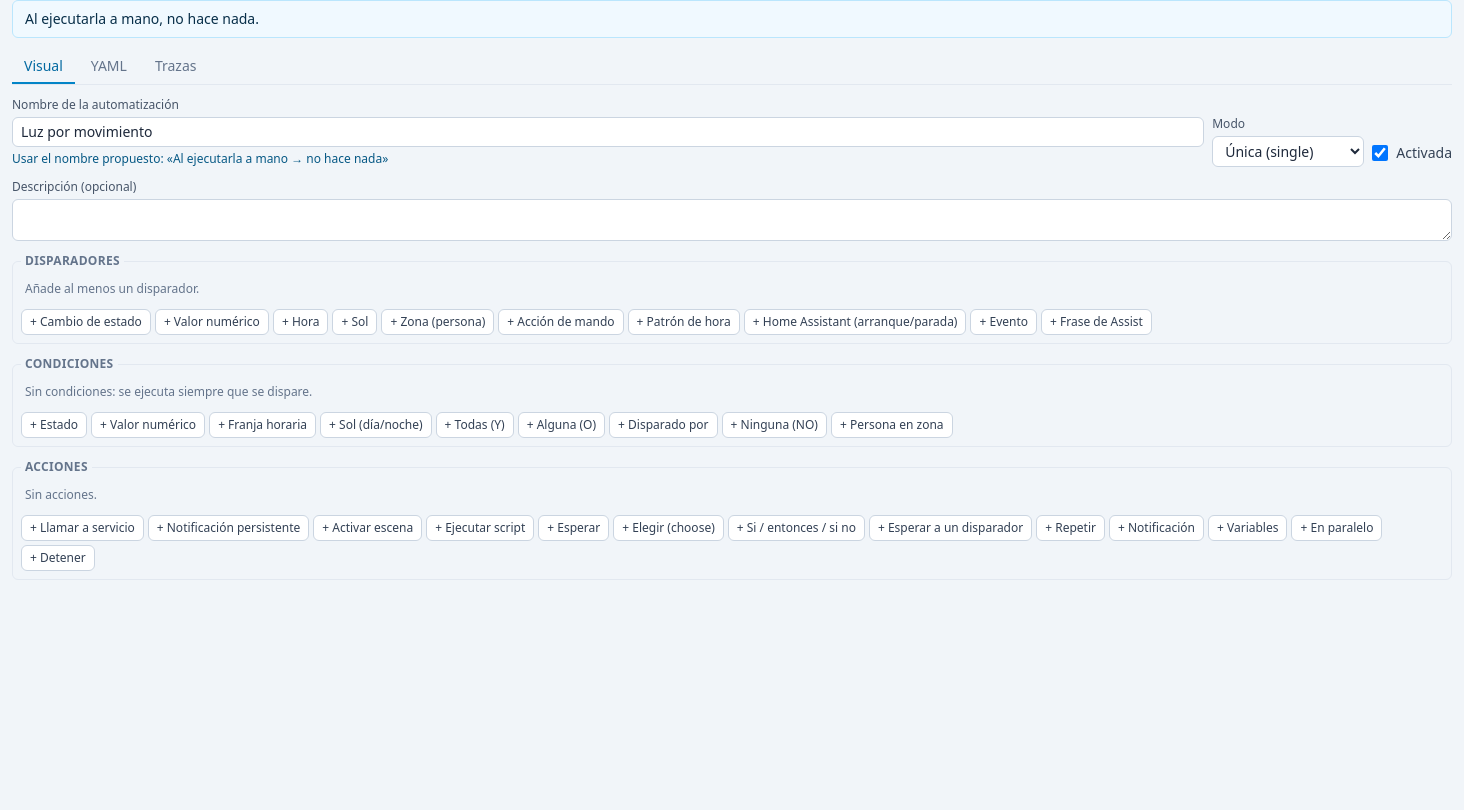
AutomationEditor › muestra los errores de parseo del YAML
This screenshot has width=1464, height=810.
Click the tab "YAML" at coordinates (109, 67), box [79, 50, 139, 84]
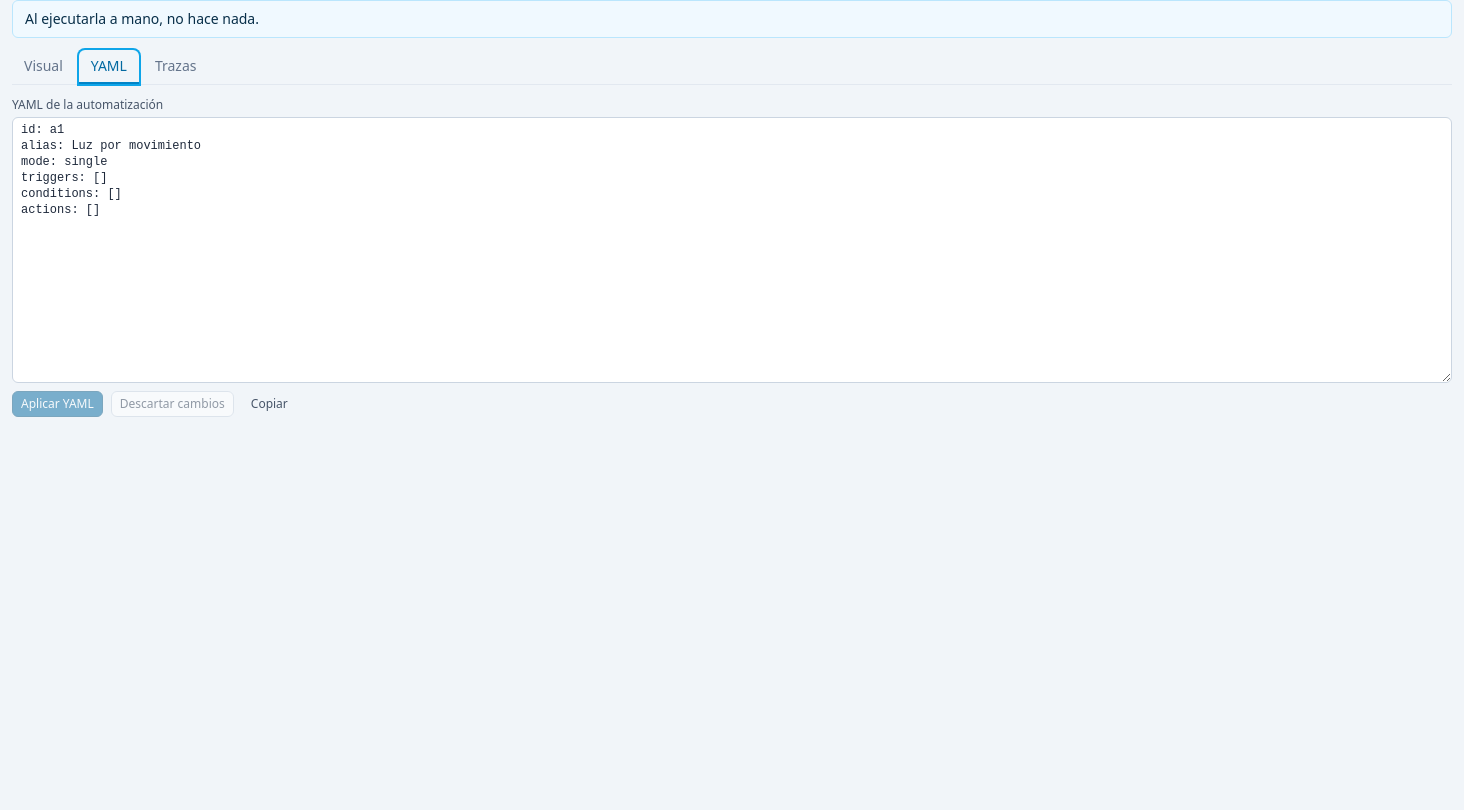
Replace the text in the text box labelled "YAML de la automatización" with "esto: [no es valido" at coordinates (732, 250), box [12, 117, 1452, 383]
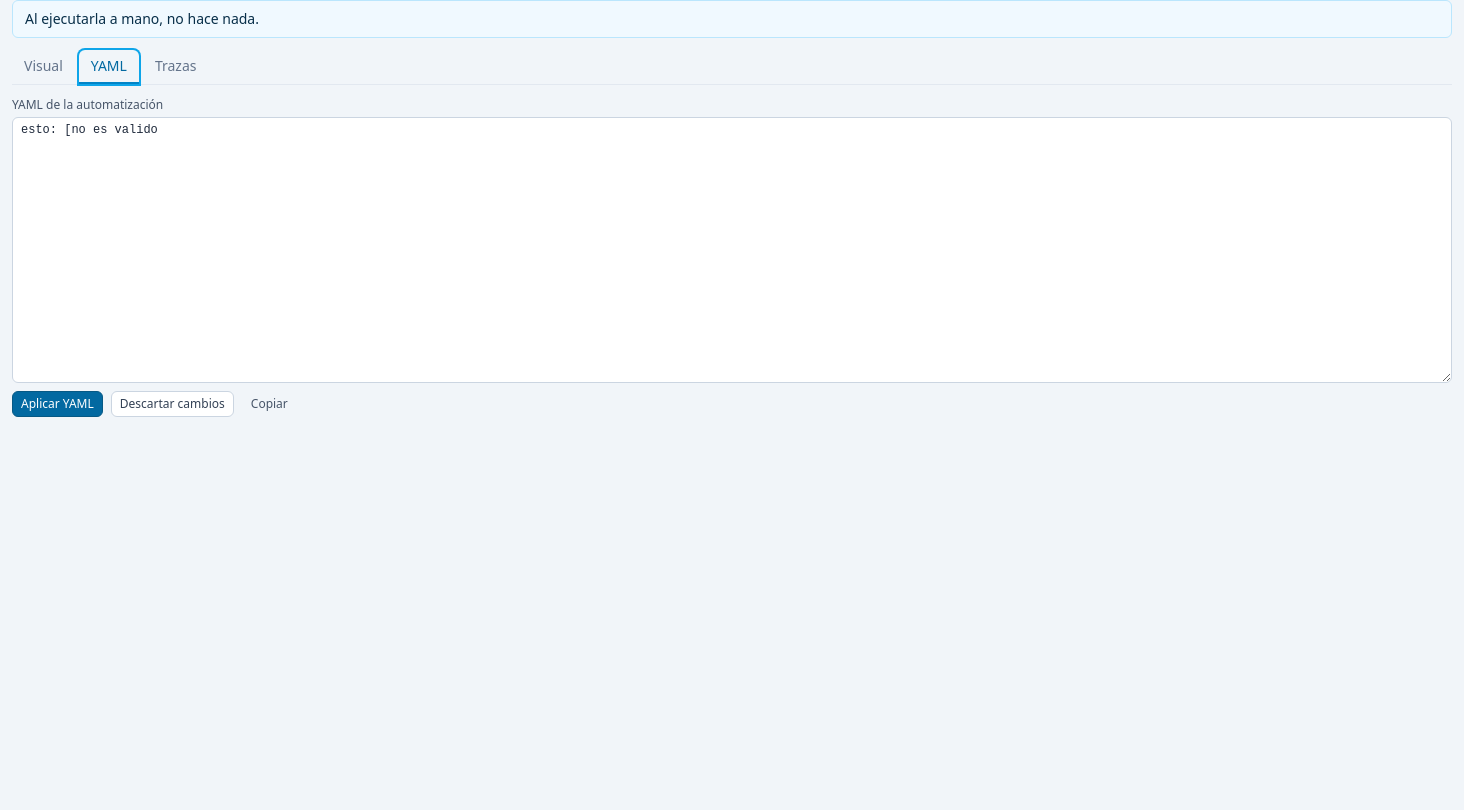
Click the button "Aplicar YAML" at coordinates (57, 404), box [12, 391, 103, 417]
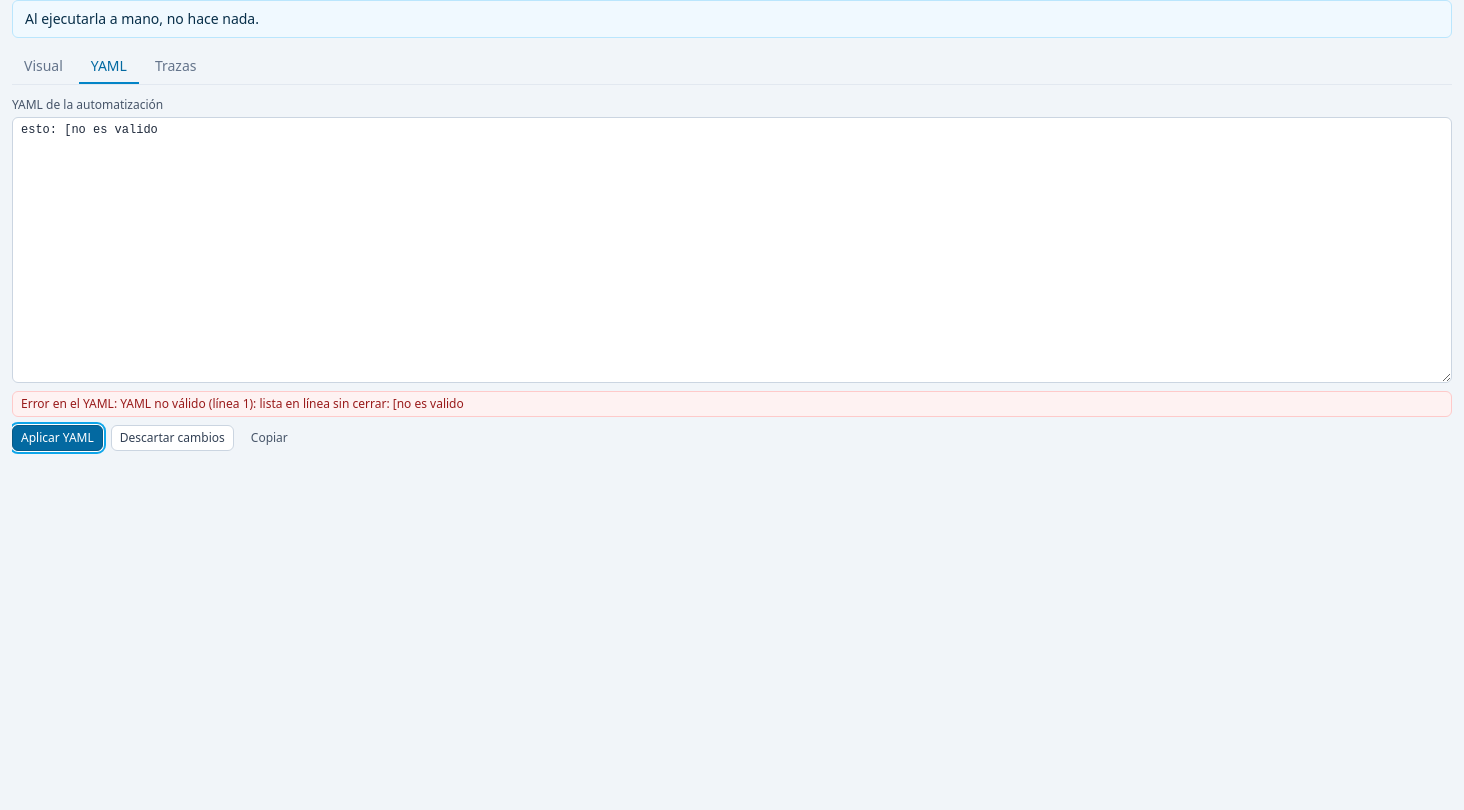
Expected: the message shows "Error en el YAML", [21, 395, 120, 412]
